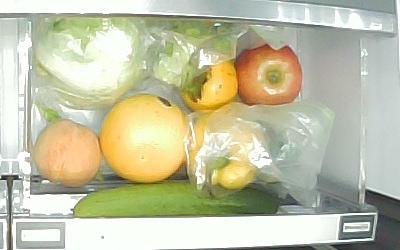apple: (235, 41, 304, 107)
broccoli_vinyl: (151, 19, 233, 87)
cucumber: (73, 181, 298, 218)
grapefruit: (101, 95, 188, 183)
lettuce_vinyl: (33, 18, 143, 103)
paprika_vinyl: (188, 113, 258, 189)
peach: (30, 118, 100, 189)
persimmon: (179, 57, 237, 112)
